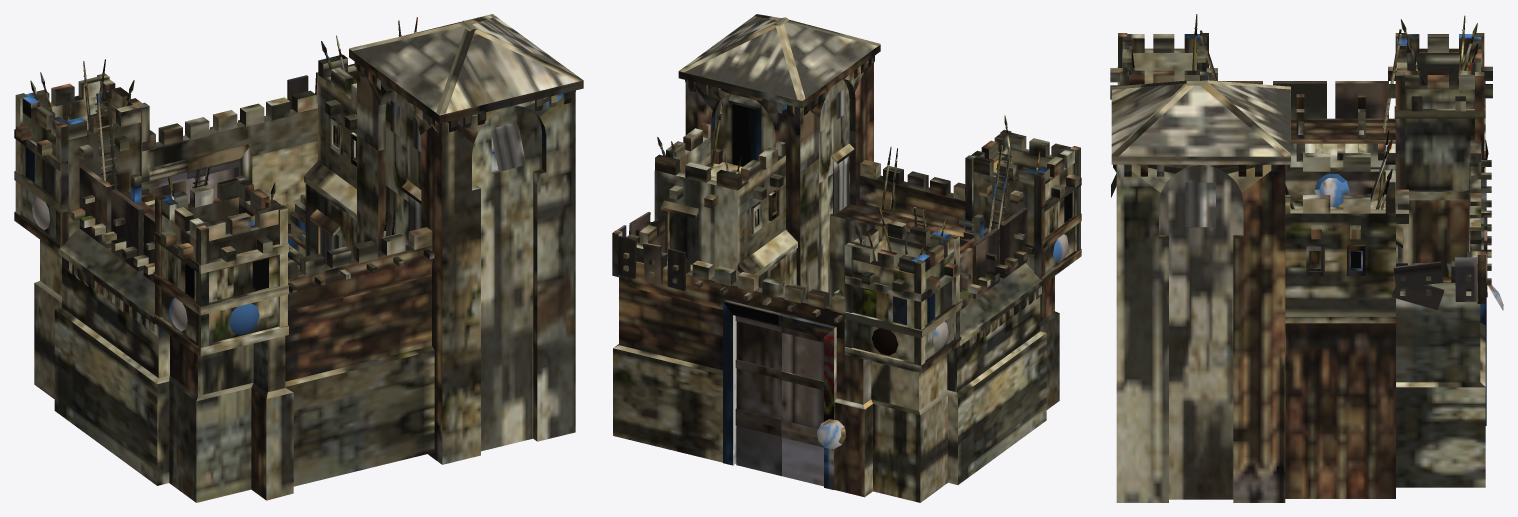
Rendered from fortress.glb.
3 views of the same model, side by side, from view 1: azimuth 30°, elevation 25°; view 2: azimuth 150°, elevation 25°; view 3: azimuth 270°, elevation 25° (orthographic). The views are drawn at different scales.
Parts seen in each view (by area): view 1: fortress; view 2: fortress; view 3: fortress.
Boxes of the visible parts, left/top/right/bottom form: fortress: left=14, top=14, right=583, bottom=502; fortress: left=612, top=14, right=1081, bottom=502; fortress: left=1110, top=14, right=1503, bottom=502.
Size of the model in its own units: 6 by 5.82 by 5.32.
5 materials, 5 textured.
